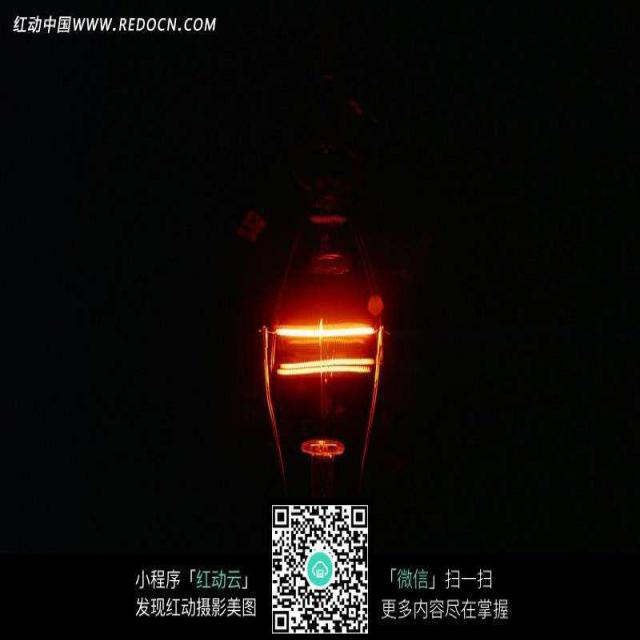other: (255, 271, 393, 421)
